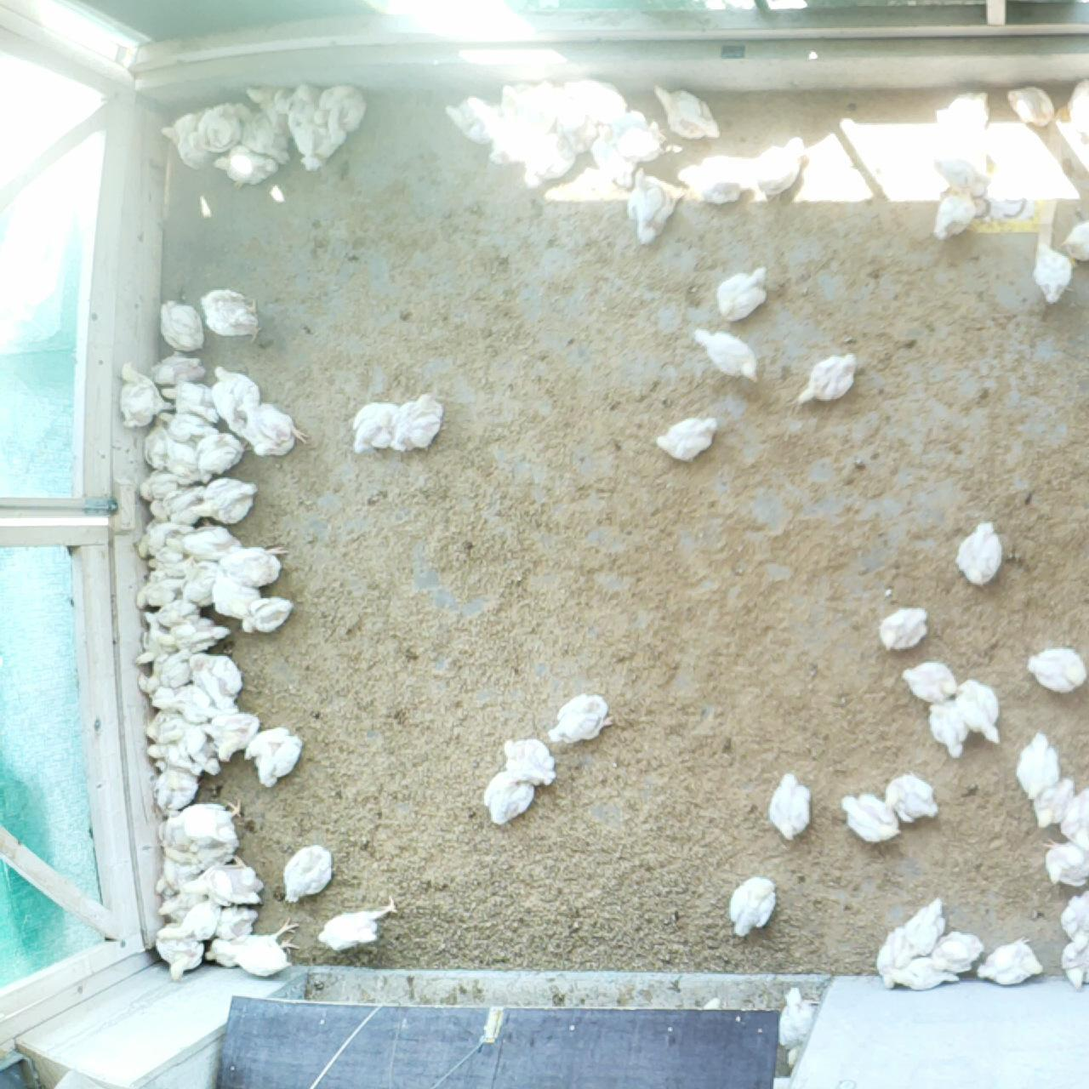chicken: (218, 914, 304, 978), (239, 390, 313, 463), (313, 891, 401, 952), (623, 165, 687, 245), (650, 80, 727, 142), (181, 852, 265, 907), (675, 151, 754, 208), (544, 689, 620, 747), (690, 326, 765, 384), (764, 768, 819, 846), (167, 797, 246, 850), (197, 283, 266, 343), (897, 892, 950, 970), (164, 514, 245, 565), (210, 362, 264, 437), (1016, 728, 1069, 804), (795, 348, 864, 406), (775, 984, 821, 1068), (212, 142, 286, 194), (955, 516, 1007, 589), (882, 771, 945, 831), (118, 356, 169, 430), (837, 789, 903, 846), (1022, 640, 1089, 696), (975, 932, 1047, 984), (712, 263, 773, 324), (155, 610, 234, 657), (953, 675, 1006, 745), (237, 100, 294, 165), (219, 541, 292, 591), (389, 389, 445, 454), (192, 472, 259, 526), (726, 874, 778, 943), (654, 414, 725, 464), (881, 952, 961, 996), (282, 840, 335, 906), (290, 112, 345, 175), (760, 133, 812, 199), (188, 651, 248, 708), (610, 110, 670, 167), (482, 765, 537, 827), (522, 132, 580, 190), (190, 429, 247, 488), (202, 710, 262, 766), (929, 141, 996, 191), (499, 735, 562, 788), (1026, 242, 1078, 306), (318, 82, 372, 143), (348, 397, 401, 458), (876, 605, 937, 657), (157, 378, 225, 424), (158, 896, 223, 944), (1038, 833, 1089, 894), (935, 90, 996, 141), (155, 295, 208, 353), (148, 933, 210, 981), (499, 77, 562, 124), (927, 697, 973, 761), (592, 124, 638, 188), (206, 568, 264, 618), (563, 76, 633, 117), (128, 606, 172, 671), (157, 110, 207, 167), (898, 660, 961, 705), (1031, 772, 1078, 832), (195, 103, 248, 156), (443, 93, 499, 143), (553, 90, 601, 147), (149, 683, 216, 723), (238, 593, 296, 639), (1006, 82, 1062, 129), (485, 116, 539, 164), (873, 922, 910, 991), (933, 189, 982, 241), (256, 737, 305, 788), (162, 481, 215, 528), (155, 881, 210, 926), (933, 927, 986, 973), (179, 551, 221, 609), (239, 81, 294, 125), (147, 353, 209, 392), (143, 742, 208, 779), (177, 725, 223, 777), (149, 766, 199, 813), (133, 465, 188, 506), (164, 840, 246, 867), (134, 521, 188, 562), (132, 574, 186, 615), (276, 80, 327, 122), (141, 413, 175, 473), (1058, 783, 1089, 848), (209, 902, 260, 941), (141, 594, 195, 630), (141, 707, 189, 747), (157, 408, 218, 439), (168, 439, 209, 485), (1058, 887, 1089, 946), (242, 723, 290, 761), (1060, 931, 1089, 993), (201, 931, 247, 969), (153, 865, 200, 901), (159, 647, 195, 691), (1059, 217, 1089, 268), (145, 551, 193, 582), (136, 651, 170, 694), (1066, 75, 1089, 131), (139, 497, 171, 531)
